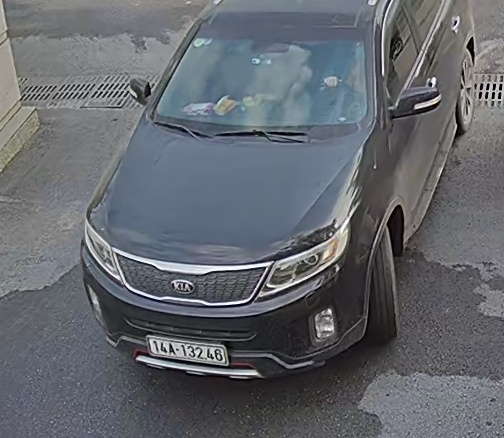vehicle plate: (143, 329, 232, 372)
